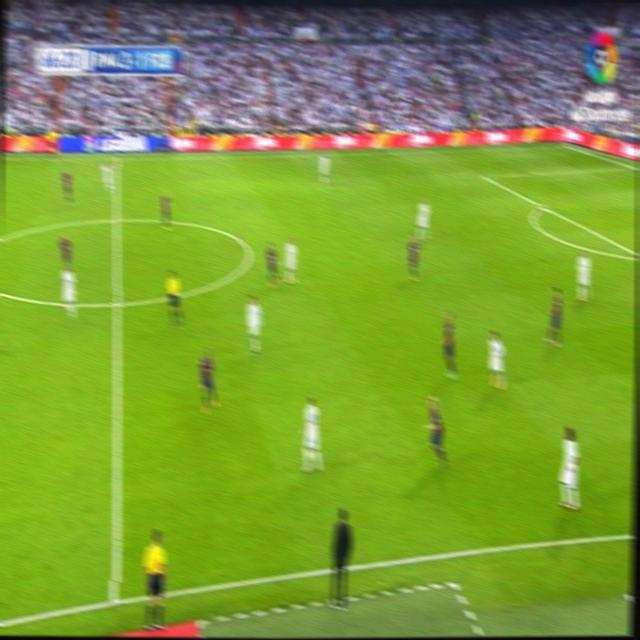halfcircle_bottom: (110, 289, 124, 316)
halfcircle_top: (109, 208, 123, 230)
midline_bottom_intersection: (106, 581, 126, 611)
midline_top_intersection: (112, 151, 122, 165)
top_arc_area_intersection: (537, 198, 548, 213)
